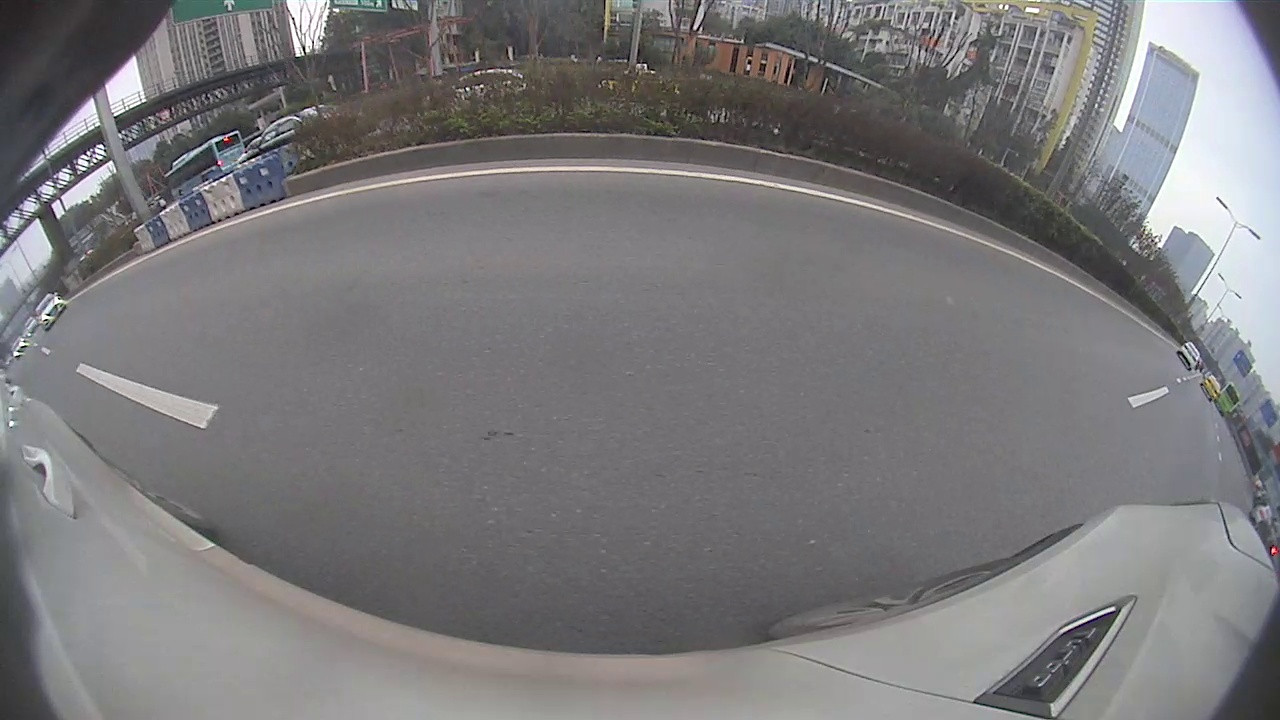car: (33, 289, 68, 334), (1176, 338, 1203, 373), (1198, 370, 1224, 405)
